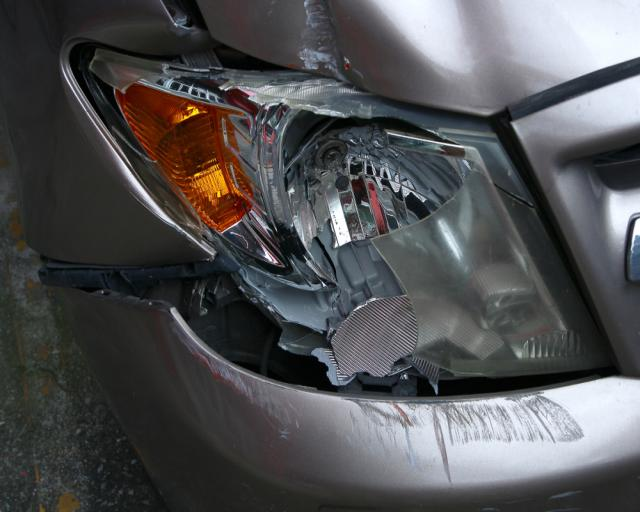dent: (294, 0, 520, 94)
lamp broken: (79, 43, 612, 395)
scratch: (170, 317, 306, 444), (340, 391, 593, 457)
